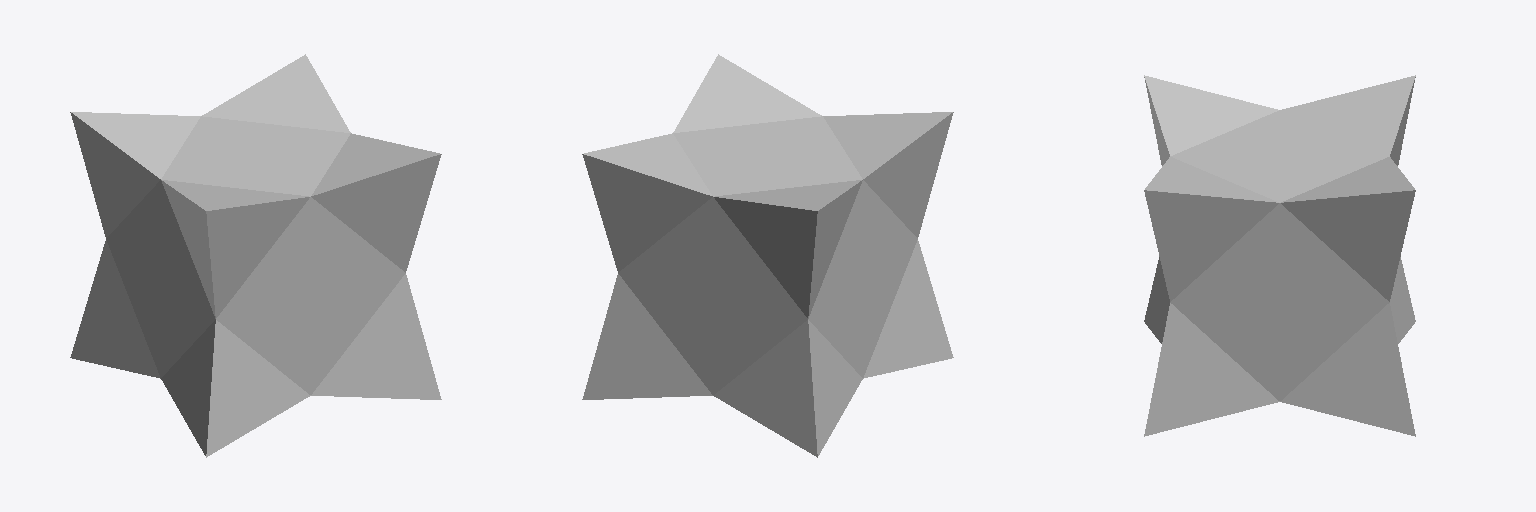
Rendered from seed.obj.
3 views of the same model, side by side, from view 1: azimuth 30°, elevation 25°; view 2: azimuth 150°, elevation 25°; view 3: azimuth 270°, elevation 25° (orthographic).
Visible parts, largest first — view 1: Cube_Cube.001; view 2: Cube_Cube.001; view 3: Cube_Cube.001.
Part boxes in pixels (bbox=[...]): Cube_Cube.001: bbox=[70, 54, 441, 457]; Cube_Cube.001: bbox=[582, 54, 953, 457]; Cube_Cube.001: bbox=[1144, 75, 1415, 436].
Bounding box in the file's own units: 2 × 2 × 2.